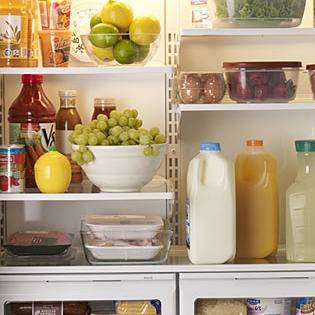milk: (185, 142, 237, 266)
